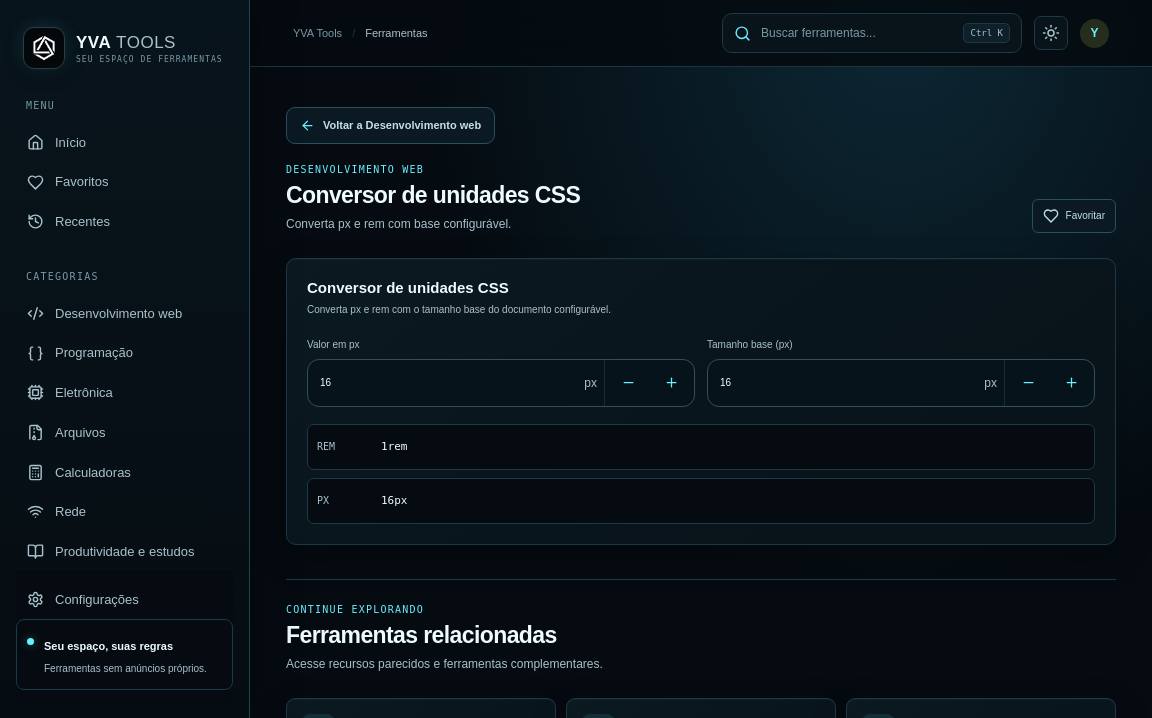
Test: Parte 3: ferramentas prioritárias › converte unidades com base tipográfica configurável
This screenshot has width=1152, height=718.
Expected: the text "1rem" is shown, [381,440,408,453]
Replace the text in the field named "Valor em pixels" with "24": (443, 382) [308,360,577,406]
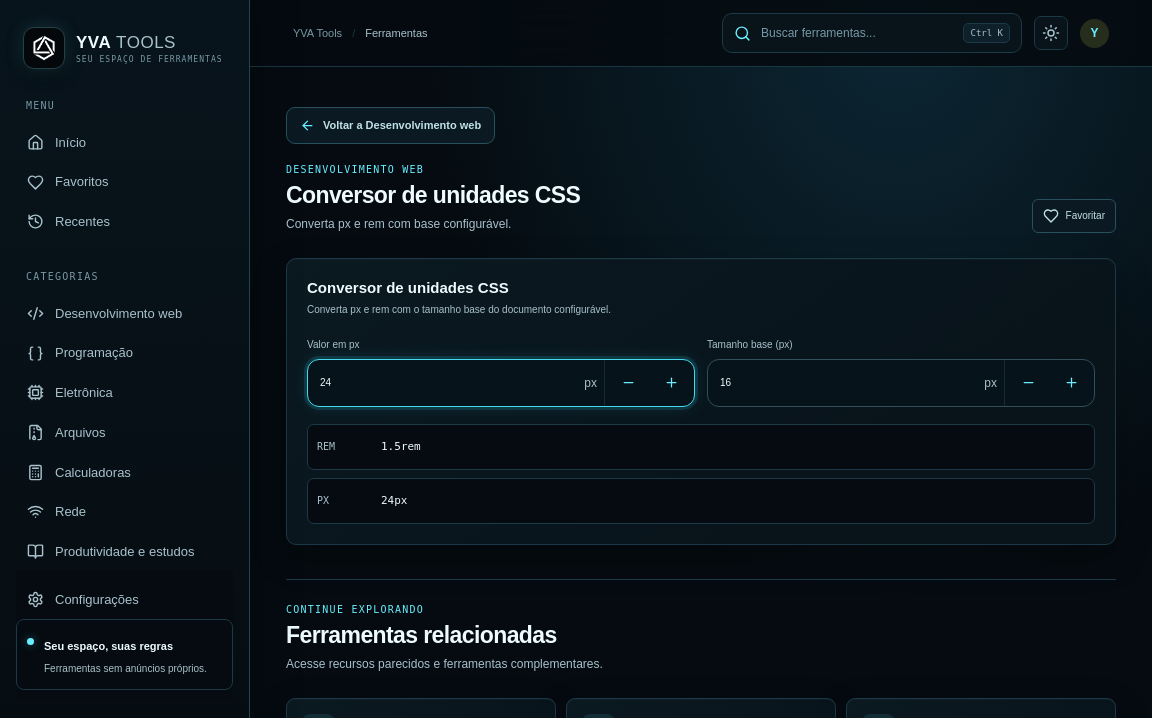
Now the text "1.5rem" is shown, box [381,440,421,453]
Replace the text in the field named "Tamanho base em pixels" with "0": (843, 382) [708,360,977,406]
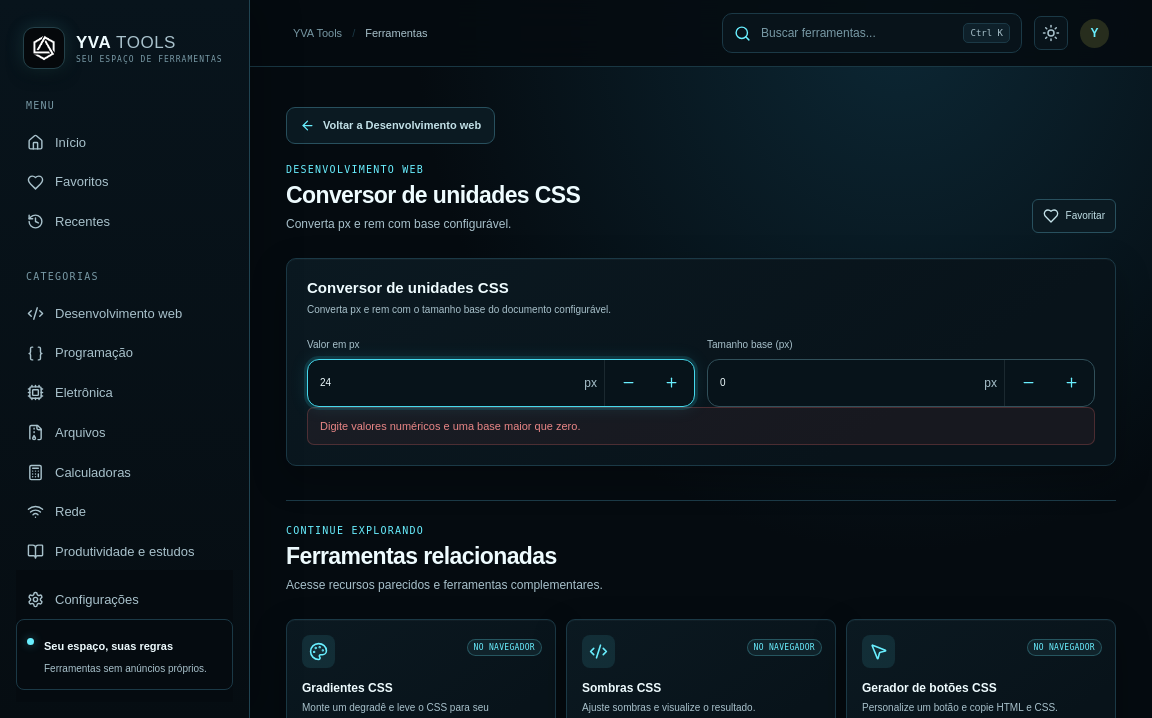
Now the message shows "base maior que zero", box [320,420,580,432]
